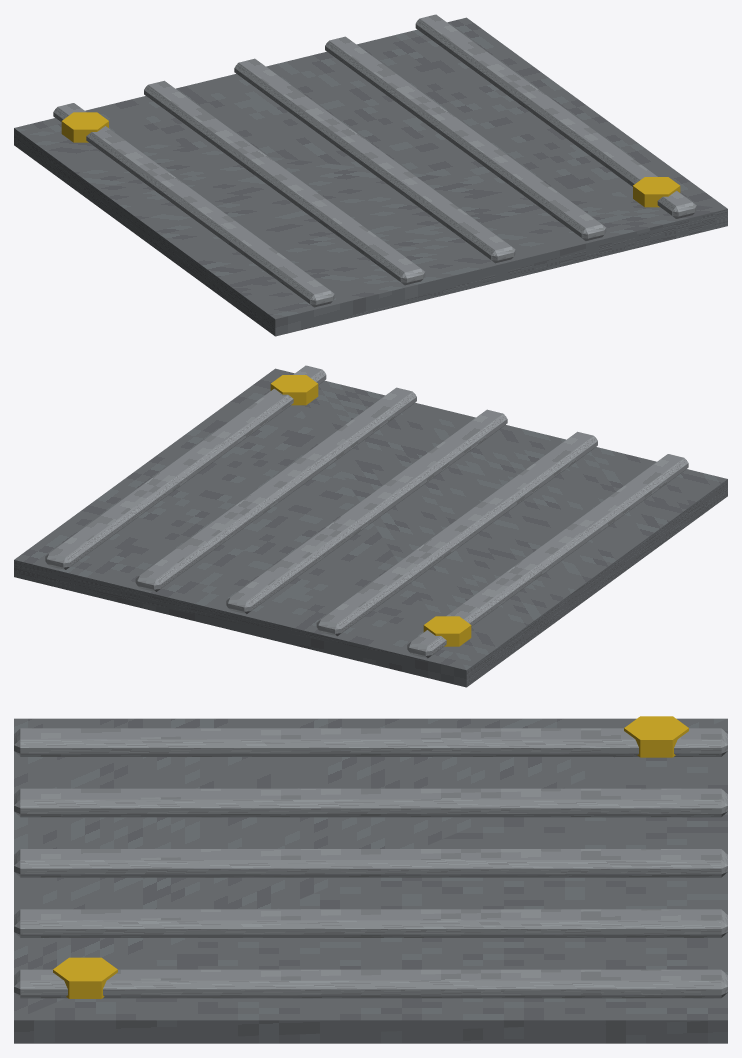
File: vp_cargo_space.glb
The picture shows the model from 3 angles, top to bottom: view 1: azimuth 30°, elevation 25°; view 2: azimuth 150°, elevation 25°; view 3: azimuth 270°, elevation 25°; orthographic projection. The views are drawn at different scales.
Visible parts, largest first — view 1: block_bed, block_rib0.00, block_rib-0.11, block_rib0.11, block_rib-0.22, block_rib0.22, block_ring-0.22, block_ring0.22; view 2: block_bed, block_rib0.00, block_rib-0.11, block_rib0.11, block_rib-0.22, block_rib0.22, block_ring-0.22, block_ring0.22; view 3: block_bed, block_rib-0.11, block_rib0.00, block_rib0.11, block_rib0.22, block_rib-0.22, block_ring-0.22, block_ring0.22.
Part boxes in pixels (x1,y1,x2,y2): block_bed: [14, 17, 727, 336]; block_rib0.00: [234, 58, 515, 263]; block_rib-0.11: [144, 80, 425, 285]; block_rib0.11: [325, 36, 606, 240]; block_rib-0.22: [53, 103, 334, 307]; block_rib0.22: [415, 14, 696, 218]; block_ring-0.22: [61, 112, 108, 142]; block_ring0.22: [633, 177, 680, 207]; block_bed: [14, 368, 727, 687]; block_rib0.00: [226, 409, 507, 614]; block_rib-0.11: [316, 431, 597, 636]; block_rib0.11: [135, 387, 416, 591]; block_rib-0.22: [407, 454, 688, 658]; block_rib0.22: [45, 365, 326, 569]; block_ring-0.22: [423, 616, 471, 646]; block_ring0.22: [270, 375, 318, 405]; block_bed: [14, 718, 727, 1043]; block_rib-0.11: [14, 788, 727, 817]; block_rib0.00: [14, 849, 727, 877]; block_rib0.11: [14, 909, 727, 937]; block_rib0.22: [14, 969, 727, 998]; block_rib-0.22: [14, 728, 727, 756]; block_ring-0.22: [624, 716, 688, 757]; block_ring0.22: [53, 957, 117, 998].
Size of the model in its own units: 0.55 by 0.0375 by 0.55.
2 materials, 2 textured.
